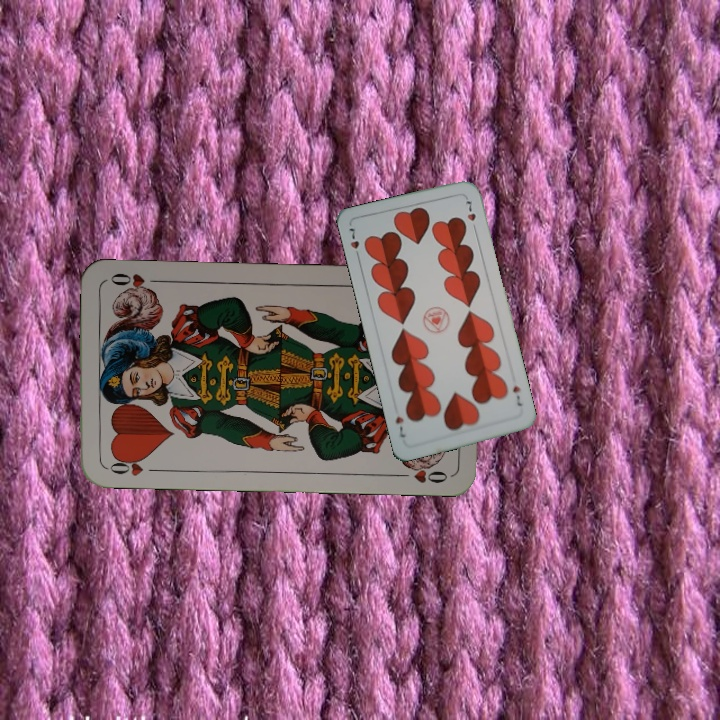H7: (345, 223, 362, 262), (509, 382, 525, 409)
HO: (101, 452, 160, 479)
